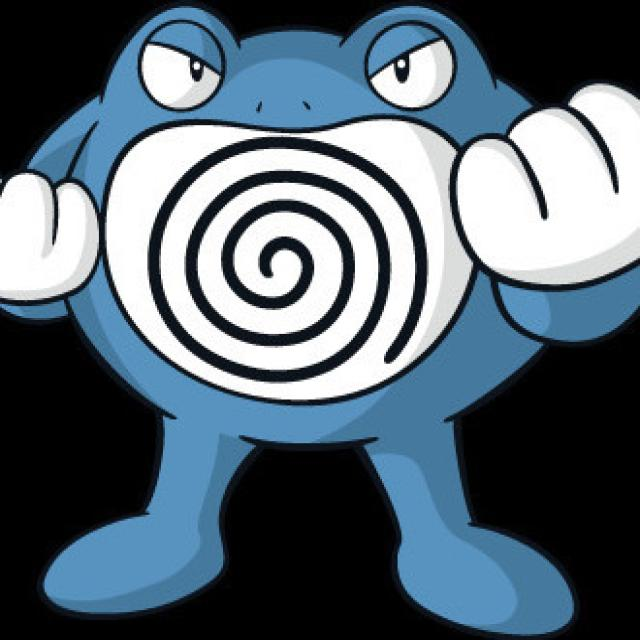Poliwrath: (43, 0, 616, 563)
